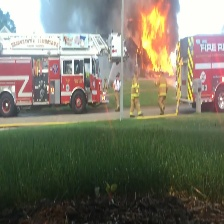fire: (134, 4, 183, 80)
